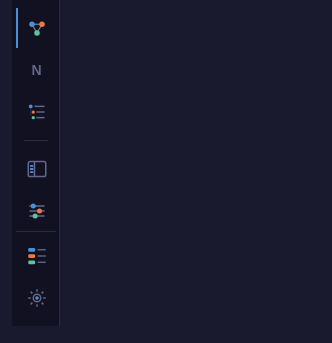
Test: ActivityBar › expand level stepper › renders +, depth label, and − inside Advanced flyout when hierarchy is present
The width and height of the screenshot is (332, 343).
What coordinates should you click on to do the following:
click the button titled "Advanced Tools"
I would click on:
 (36, 211)
Its box is x1=16 y1=191 x2=56 y2=231.
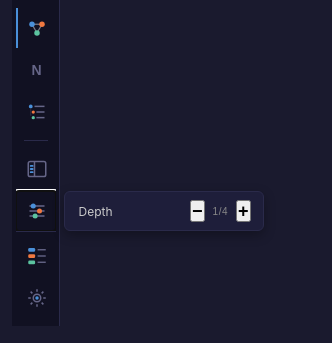
Check: the button named "Expand one level" is shown, box x1=236 y1=200 x2=250 y2=222
Check: the button named "Collapse one level" is shown, box x1=190 y1=200 x2=205 y2=222
Check: the button "1/4" is shown, box x1=209 y1=204 x2=232 y2=218
